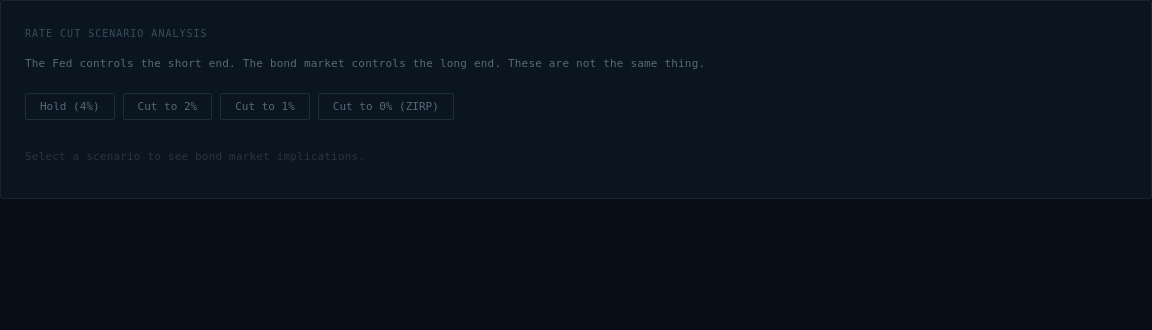
Test: RateScenarios › shows the consequences of a chosen path, and folds it away again
The image size is (1152, 330).
Click the button "Cut to 0% (ZIRP)".
click(386, 107)  # box [318,93,454,120]
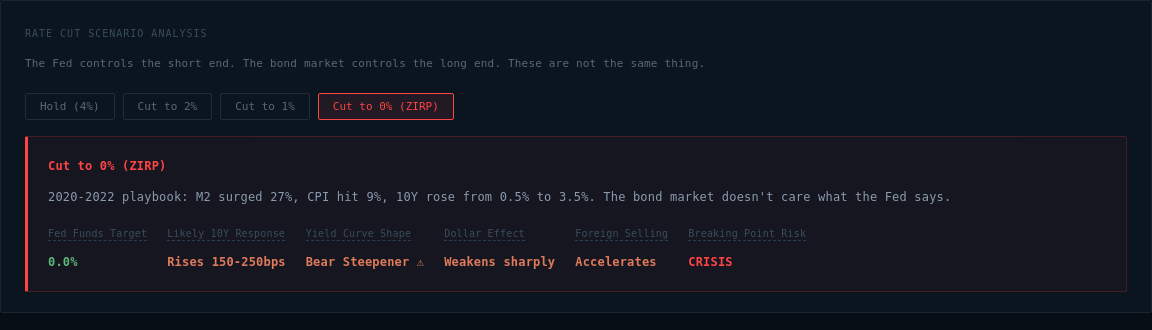
Expected: the text "CRISIS" is shown, [688,255,733,269]
Expected: the text "Rises 150-250bps" is shown, [167,255,286,269]
Click the button "Cut to 0% (ZIRP)".
click(386, 107)  # box [318,93,454,120]
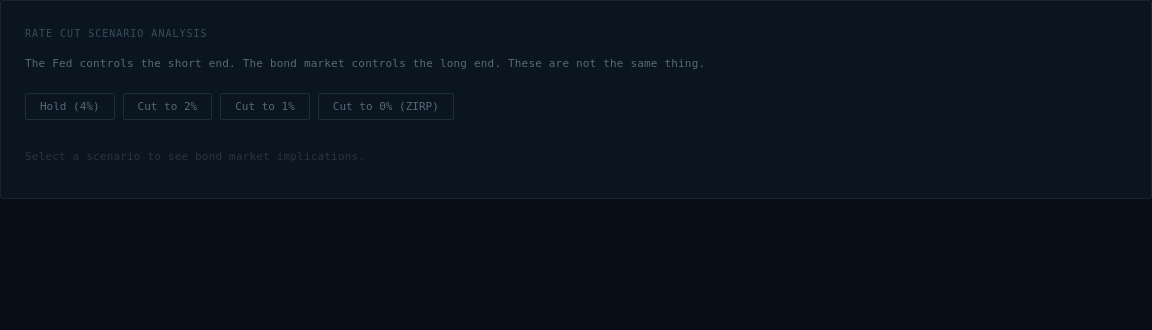
Expected: the text "Rises 150-250bps" is gone
